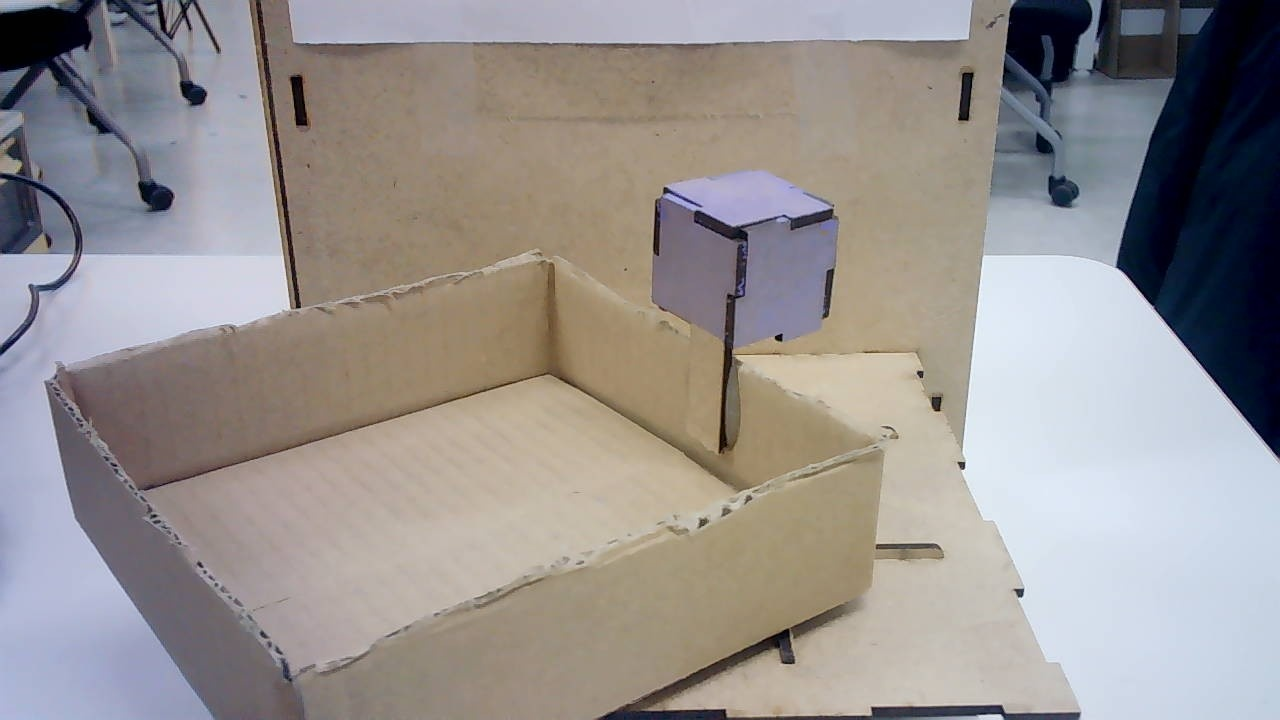pulple box: (652, 164, 840, 350)
